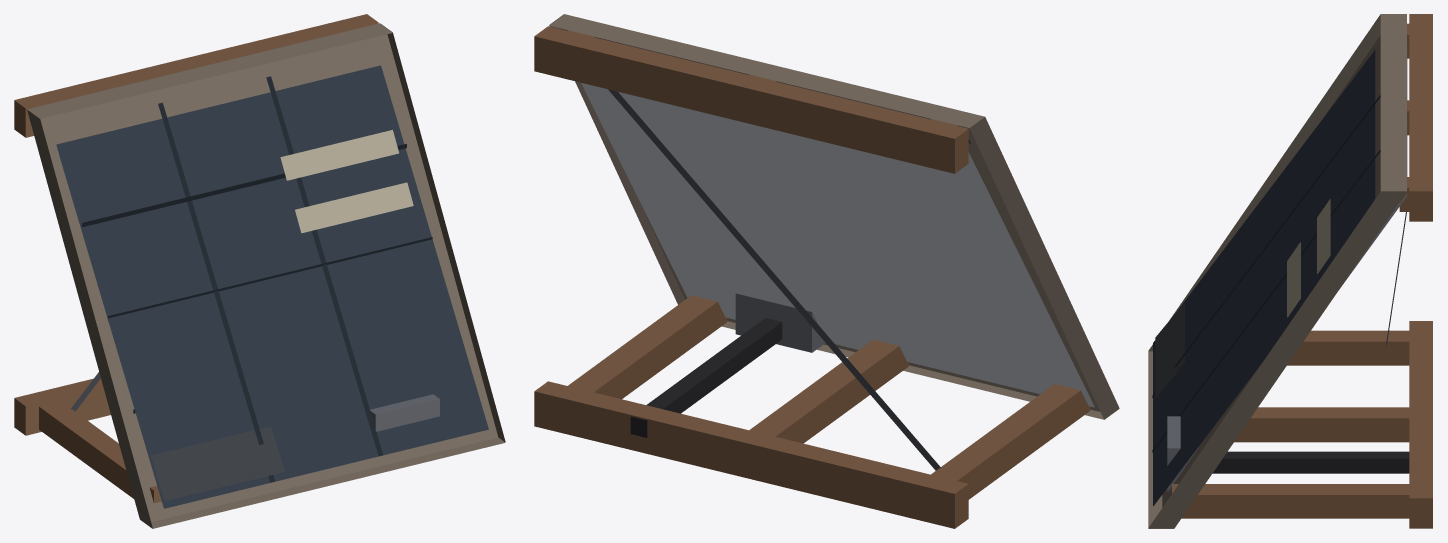
Rendered from array_ground_makeshift_clear_S.obj.
3 renders of one model, left to right at view 1: azimuth 30°, elevation 25°; view 2: azimuth 150°, elevation 25°; view 3: azimuth 270°, elevation 25°, orthographic. The views are drawn at different scales.
Visible parts, largest first — view 1: array_ground_makeshift_clear_S; view 2: array_ground_makeshift_clear_S; view 3: array_ground_makeshift_clear_S.
Part boxes in pixels (x1,y1,x2,y2): array_ground_makeshift_clear_S: [14, 14, 505, 528]; array_ground_makeshift_clear_S: [534, 14, 1119, 528]; array_ground_makeshift_clear_S: [1148, 14, 1432, 528].
Bounding box in the file's own units: 0.881 × 0.781 × 0.5989.
1 material, 1 textured.
